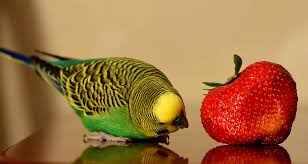budgie: (1, 46, 195, 145)
